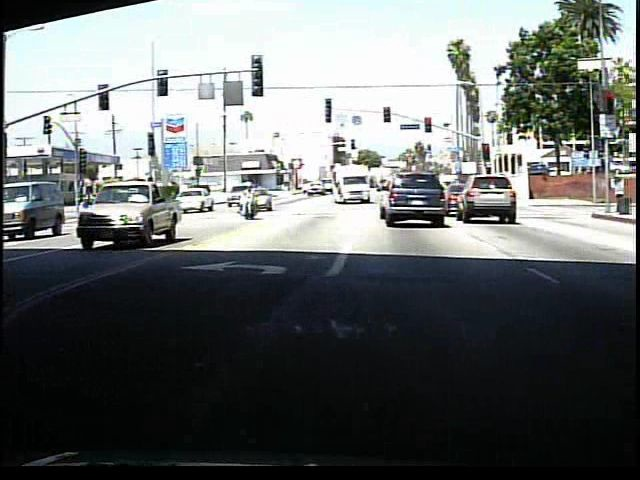person: (239, 184, 259, 222)
